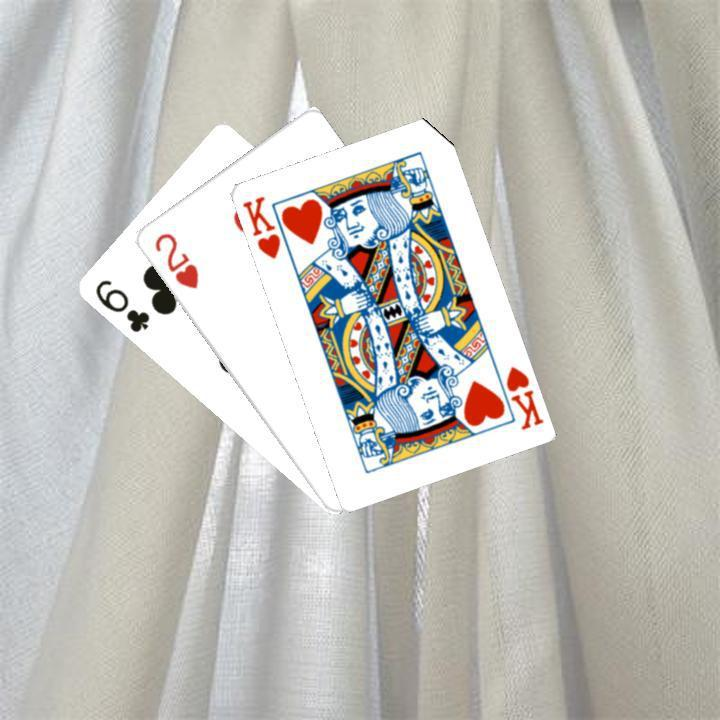2: (149, 228, 201, 291)
6: (90, 275, 151, 335)
K: (237, 191, 282, 261), (500, 361, 544, 432)
